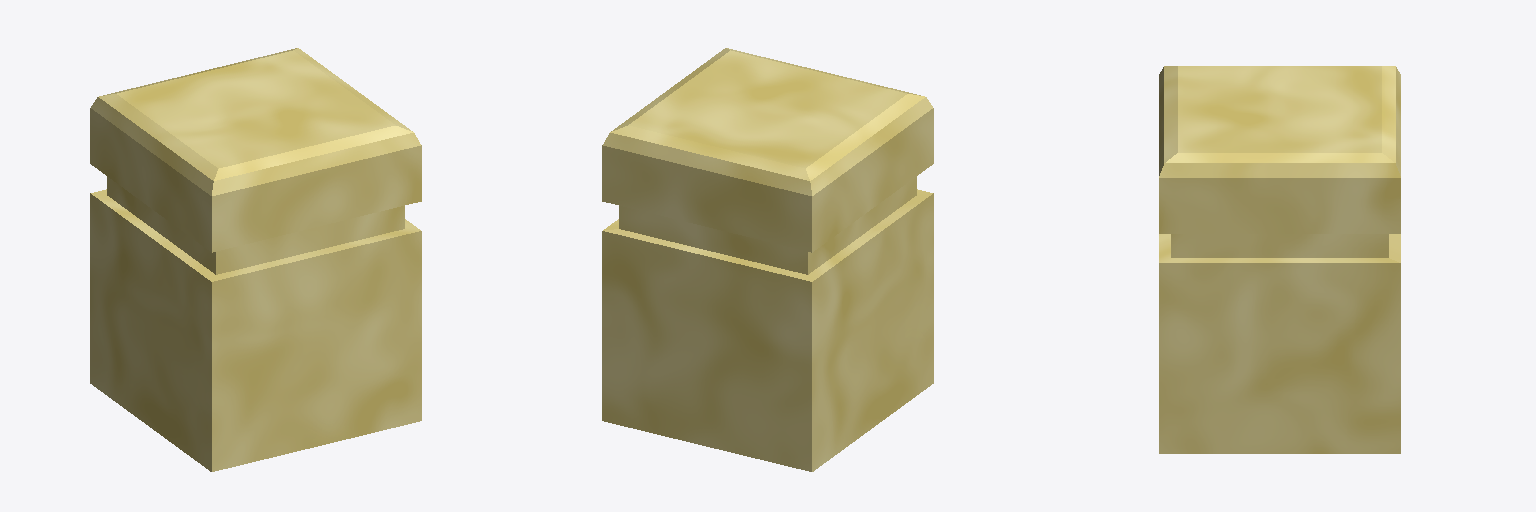
3 views of the same model, side by side, from view 1: azimuth 30°, elevation 25°; view 2: azimuth 150°, elevation 25°; view 3: azimuth 270°, elevation 25° (orthographic).
Visible parts, largest first — view 1: wssf_Cube; view 2: wssf_Cube; view 3: wssf_Cube.
Boxes of the visible parts, <box> form: wssf_Cube: <box>90,48,421,471</box>; wssf_Cube: <box>602,48,933,471</box>; wssf_Cube: <box>1159,66,1400,453</box>.
Size of the model in its own units: 0.15 by 0.2 by 0.15.
Materials: 1 (1 with a texture image).